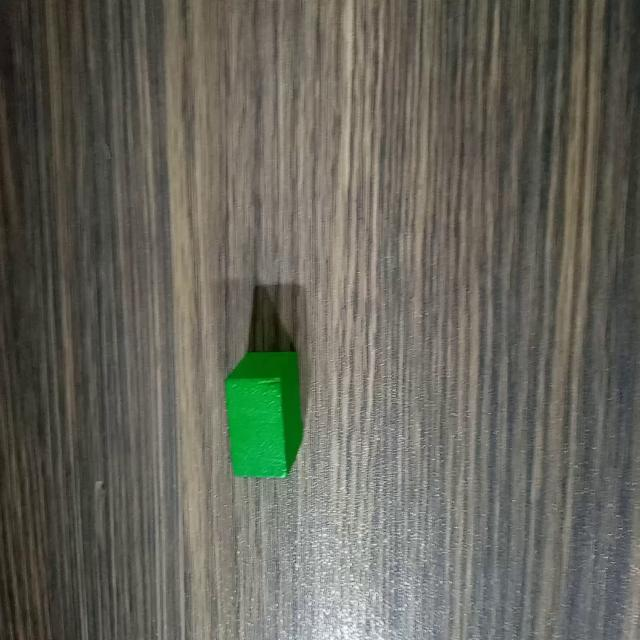cube: (221, 345, 306, 483)
